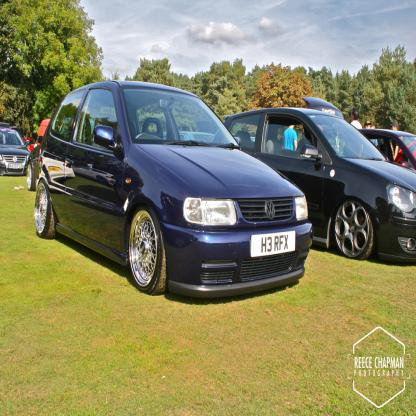Car: (40, 82, 315, 302), (225, 109, 416, 261), (2, 126, 31, 176)
